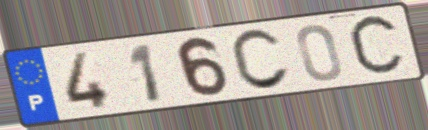0: (295, 23, 346, 84)
1: (124, 41, 164, 106)
4: (63, 49, 114, 112)
6: (174, 34, 231, 99)
C: (227, 27, 293, 94), (345, 11, 408, 81)
